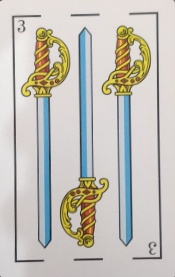3e: (10, 10, 160, 34)
